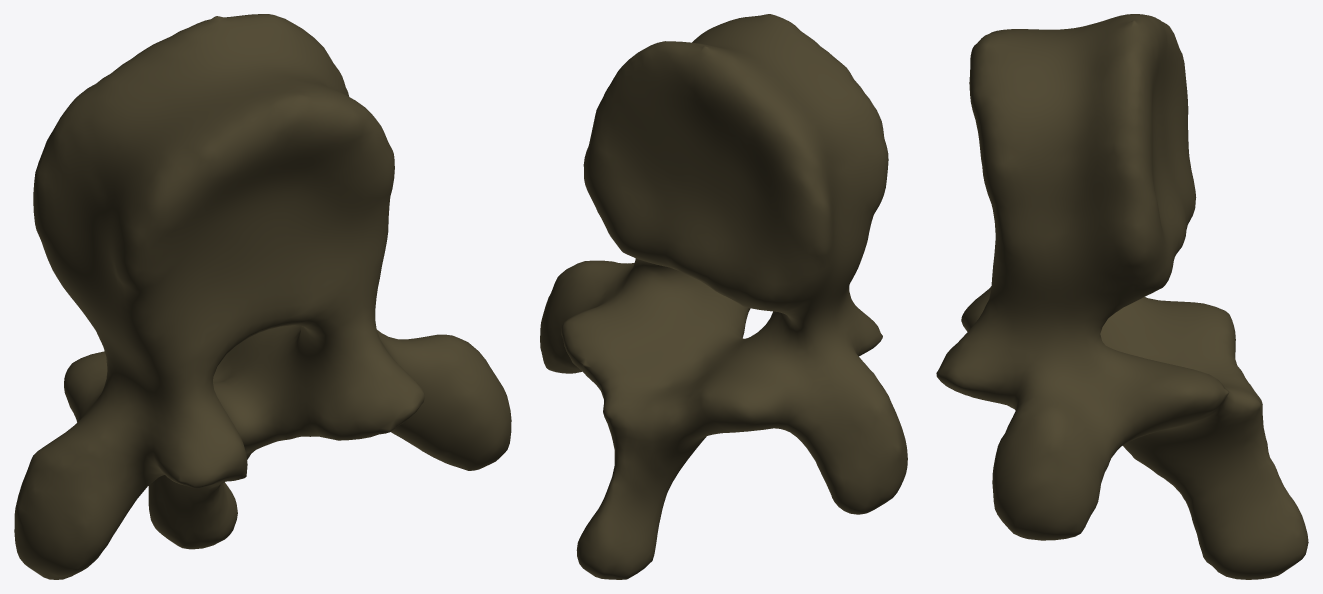
Rendered from segmentations_vertebrae_T10.obj.
3 renders of one model, left to right at view 1: azimuth 30°, elevation 25°; view 2: azimuth 150°, elevation 25°; view 3: azimuth 270°, elevation 25°, orthographic. The views are drawn at different scales.
Visible parts, largest first — view 1: grp1; view 2: grp1; view 3: grp1.
Boxes of the visible parts, bbox=[...] form: grp1: bbox=[14, 14, 511, 579]; grp1: bbox=[540, 14, 907, 579]; grp1: bbox=[936, 14, 1308, 579].
Size of the model in its own units: 39.39 by 48.56 by 30.47.
